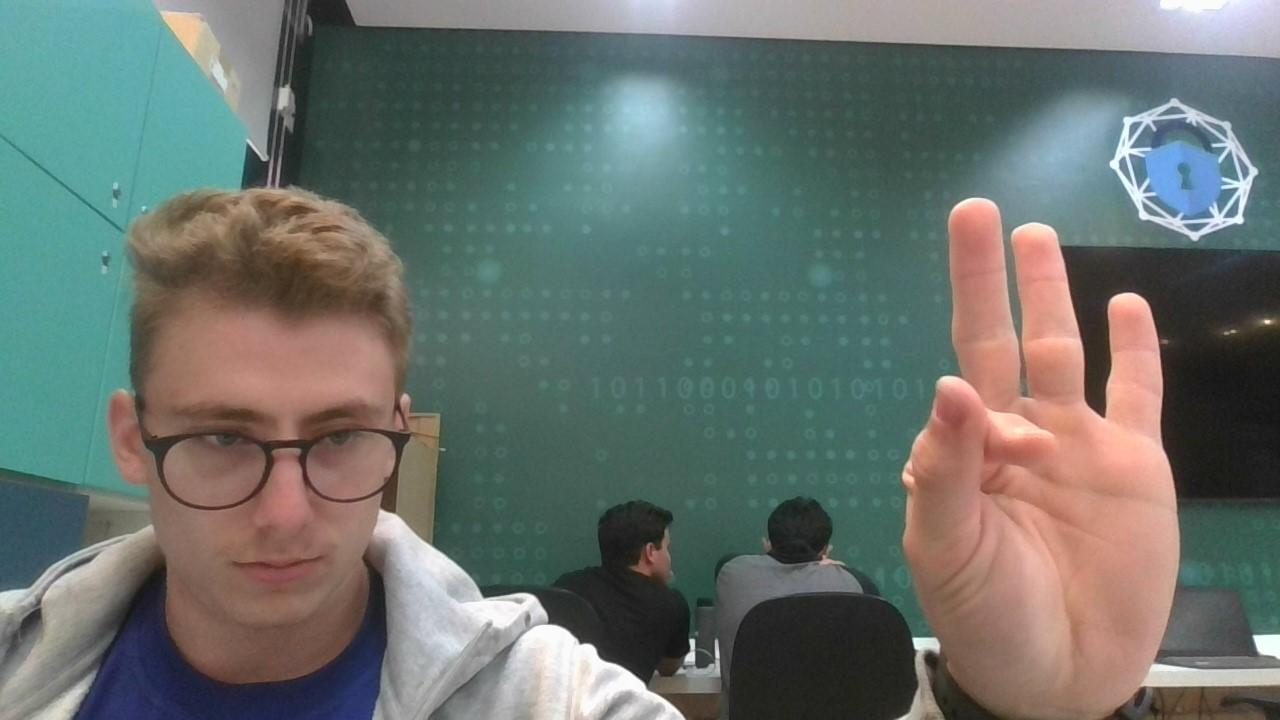F: (892, 186, 1194, 720)
